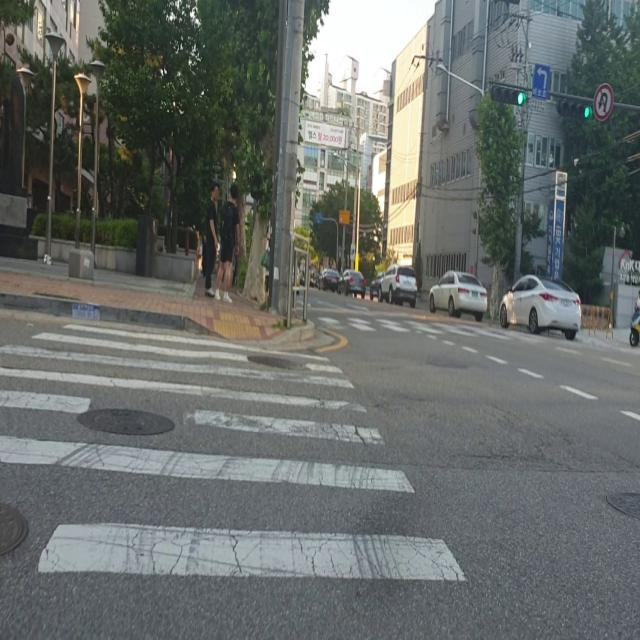횡단보도: (0, 322, 469, 586), (317, 312, 569, 338)
